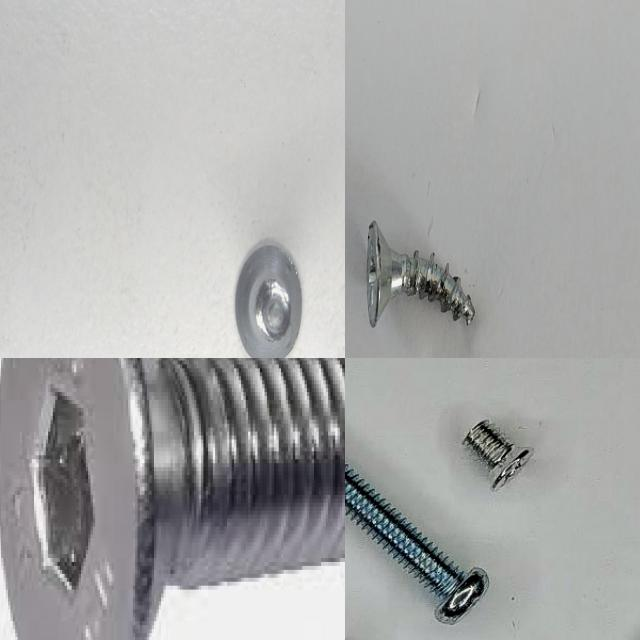Screw: (0, 358, 345, 640), (345, 463, 488, 624), (367, 220, 475, 326), (235, 244, 302, 358), (463, 419, 533, 489)
